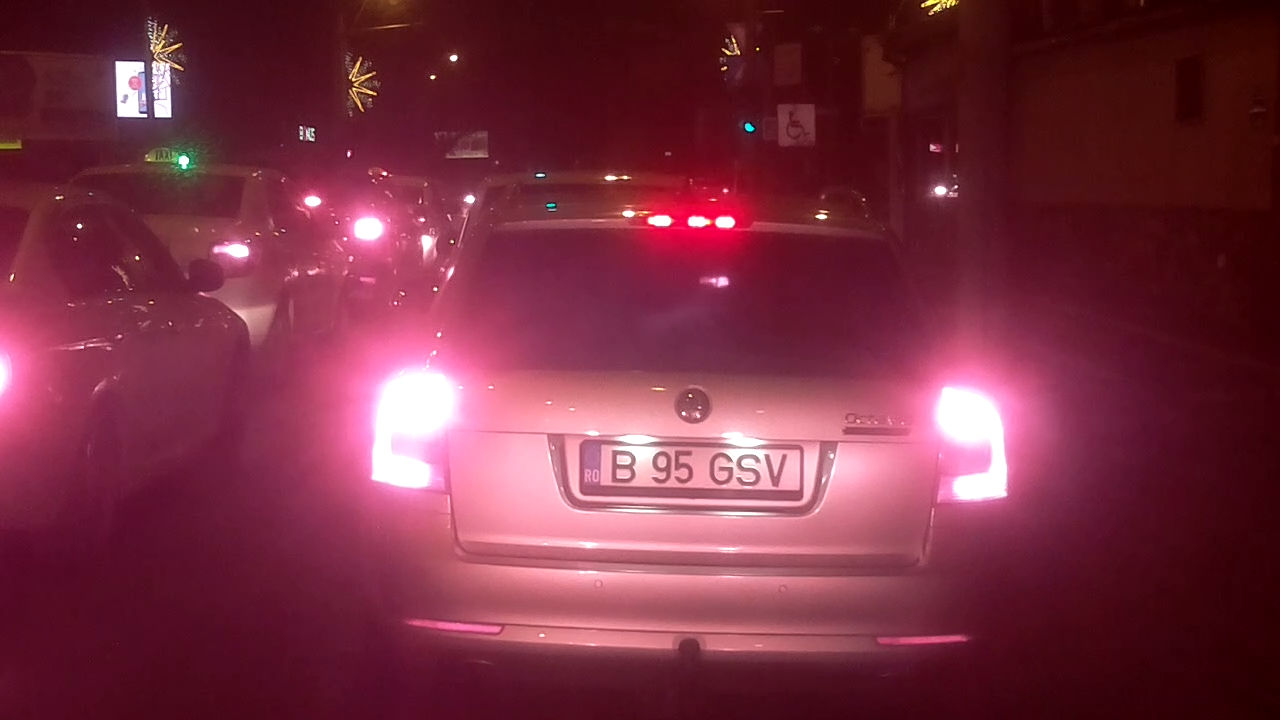license-plate: (573, 433, 810, 504)
